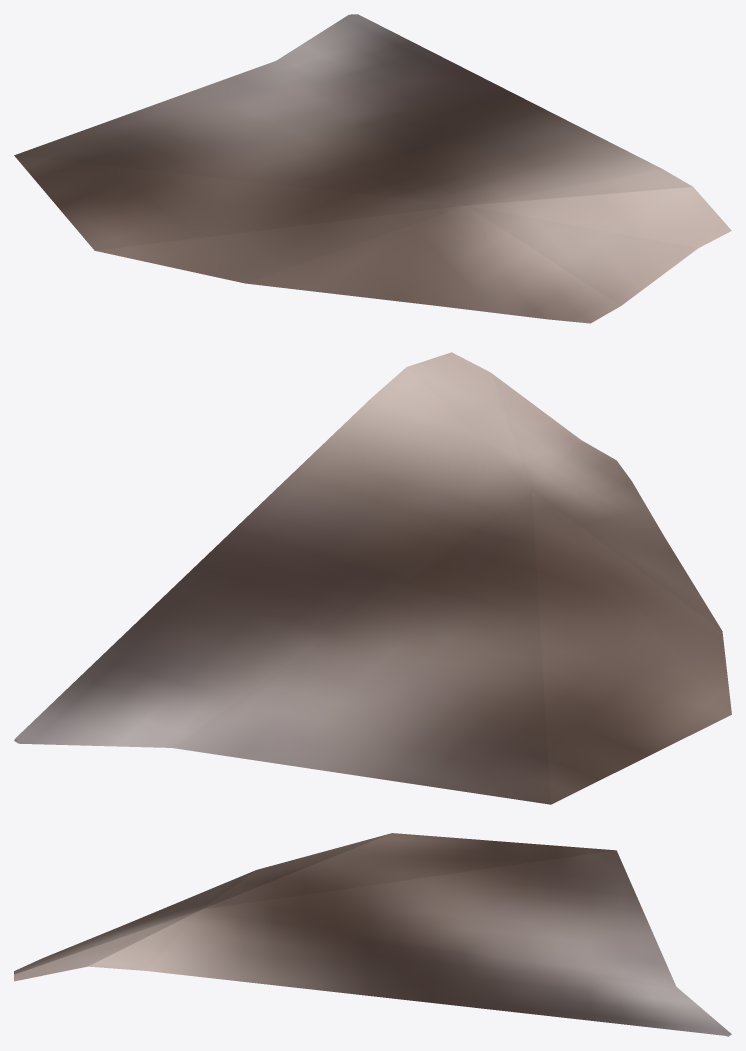
3 views of the same model, one above another, from view 1: azimuth 30°, elevation 25°; view 2: azimuth 150°, elevation 25°; view 3: azimuth 270°, elevation 25° (orthographic). The views are drawn at different scales.
Size of the model in its own units: 0.0487 by 0.00784 by 0.0725.
1 material, 1 textured.
